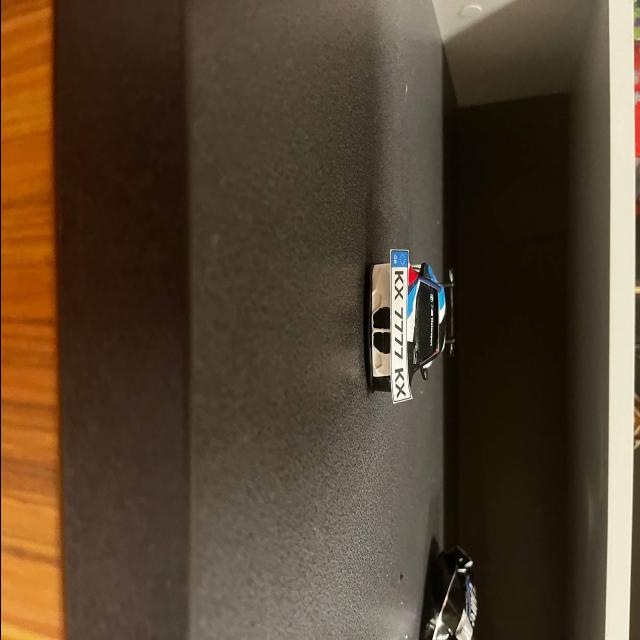cars: (361, 242, 465, 409)
